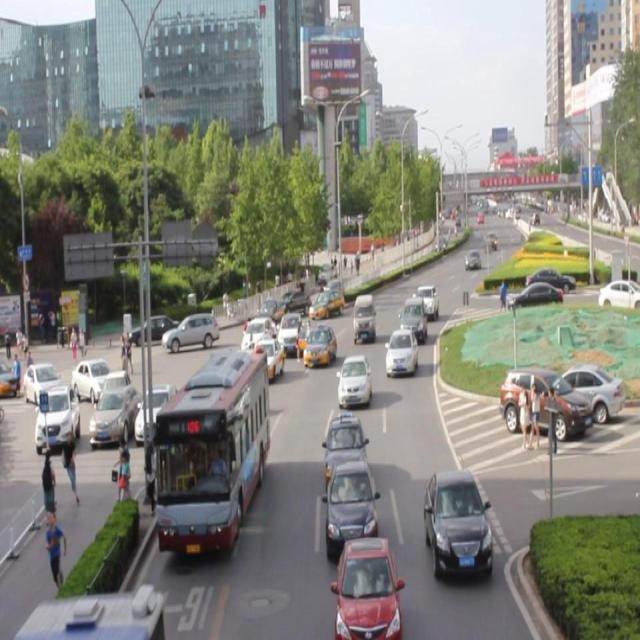car: (424, 468, 491, 576), (334, 537, 399, 640), (324, 461, 377, 554), (324, 416, 367, 482), (338, 353, 372, 408), (211, 345, 245, 395), (248, 334, 288, 376), (304, 316, 338, 362), (385, 327, 416, 377), (274, 306, 305, 354), (311, 279, 348, 315), (242, 316, 273, 356), (400, 294, 426, 340), (414, 282, 439, 322)
truck: (352, 292, 375, 340)
van: (156, 356, 268, 554), (16, 588, 160, 640)
